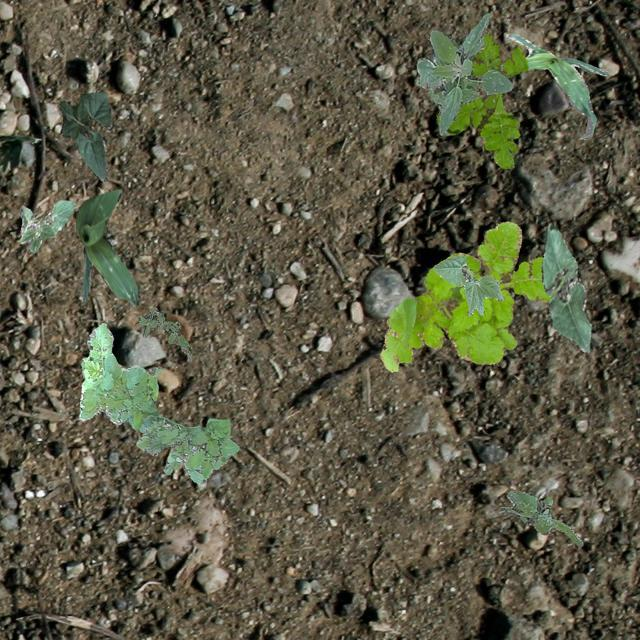crop: (416, 12, 512, 134), (504, 33, 608, 138), (74, 188, 140, 306), (540, 225, 590, 352), (58, 90, 112, 180), (432, 254, 503, 314), (19, 200, 74, 252)
weed: (378, 220, 550, 370), (78, 322, 238, 482), (436, 29, 526, 168), (498, 490, 582, 546), (138, 306, 192, 362)
